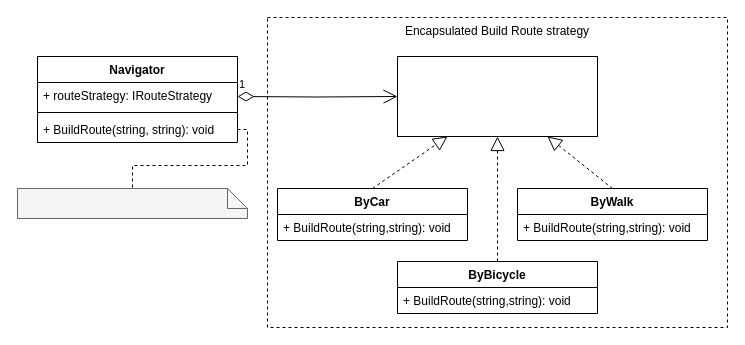
This 745x345 diagram has some shape labels left out. Here are the shapes that lost their labels. From the top down, the box of each, then its label:
(396, 56, 598, 136): <<Interface>> IRouteStrategy + BuildRoute(string,string): void
(16, 188, 248, 218): routeStrategy.BuildRoute(from, to);
